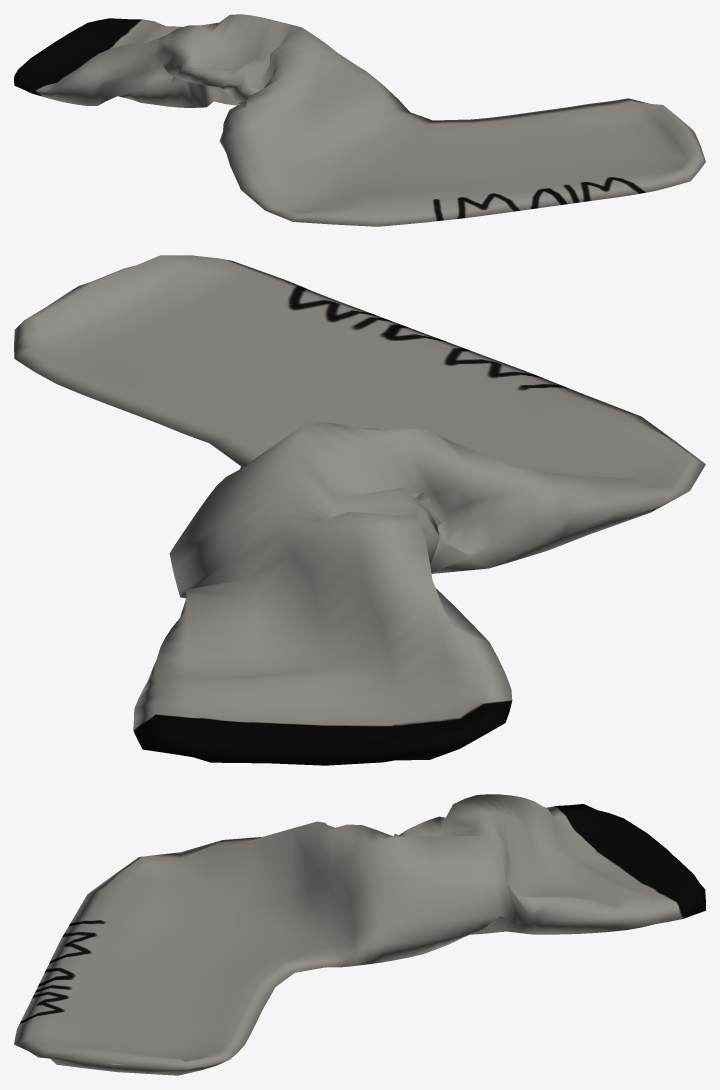
Rendered from sock1.fbx.
3 renders of one model, top to bottom at view 1: azimuth 30°, elevation 25°; view 2: azimuth 150°, elevation 25°; view 3: azimuth 270°, elevation 25°, orthographic. The views are drawn at different scales.
Parts seen in each view (by area): view 1: Socks.001; view 2: Socks.001; view 3: Socks.001.
Part boxes in pixels (box(x1,y1,x2,y2)): Socks.001: box(14, 14, 705, 226); Socks.001: box(14, 255, 705, 765); Socks.001: box(14, 794, 705, 1075).
Bounding box in the file's own units: 326 × 57.02 × 372.
